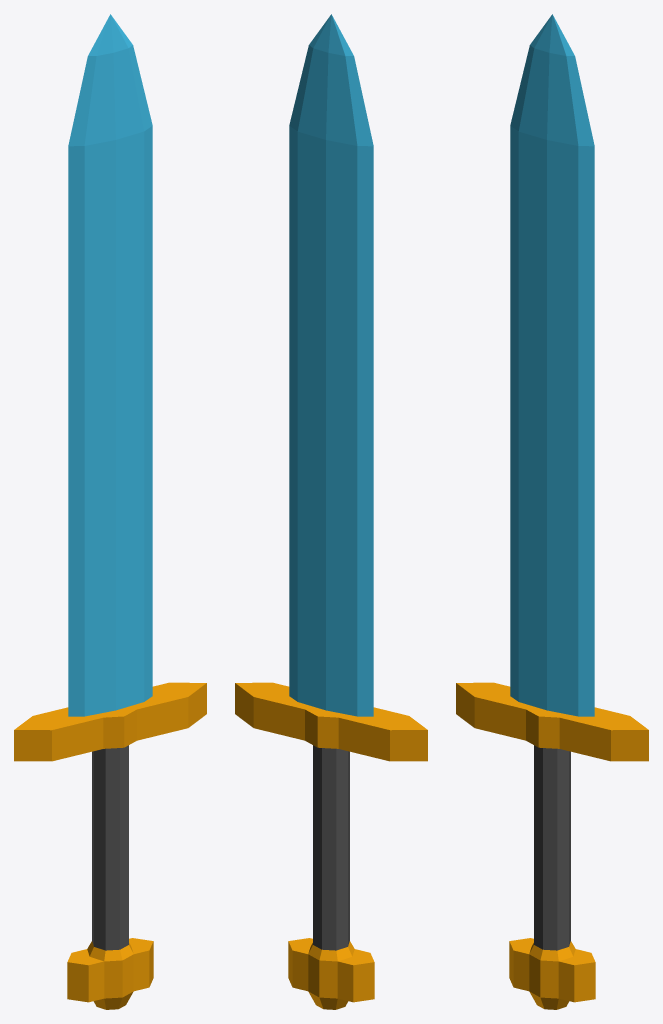
The model's file is dwarf_sword.fbx.
The picture shows the model from 3 angles, left to right: view 1: azimuth 30°, elevation 25°; view 2: azimuth 150°, elevation 25°; view 3: azimuth 330°, elevation 25°; orthographic projection.
Parts seen in each view (by area): view 1: Cylinder.001; view 2: Cylinder.001; view 3: Cylinder.001.
Boxes of the visible parts, x1,y1,x2,y2 form: Cylinder.001: (14, 14, 206, 1009); Cylinder.001: (235, 14, 427, 1009); Cylinder.001: (456, 14, 648, 1009).
Bounding box in the file's own units: 195 × 955 × 48.06.
1 material, 1 textured.
